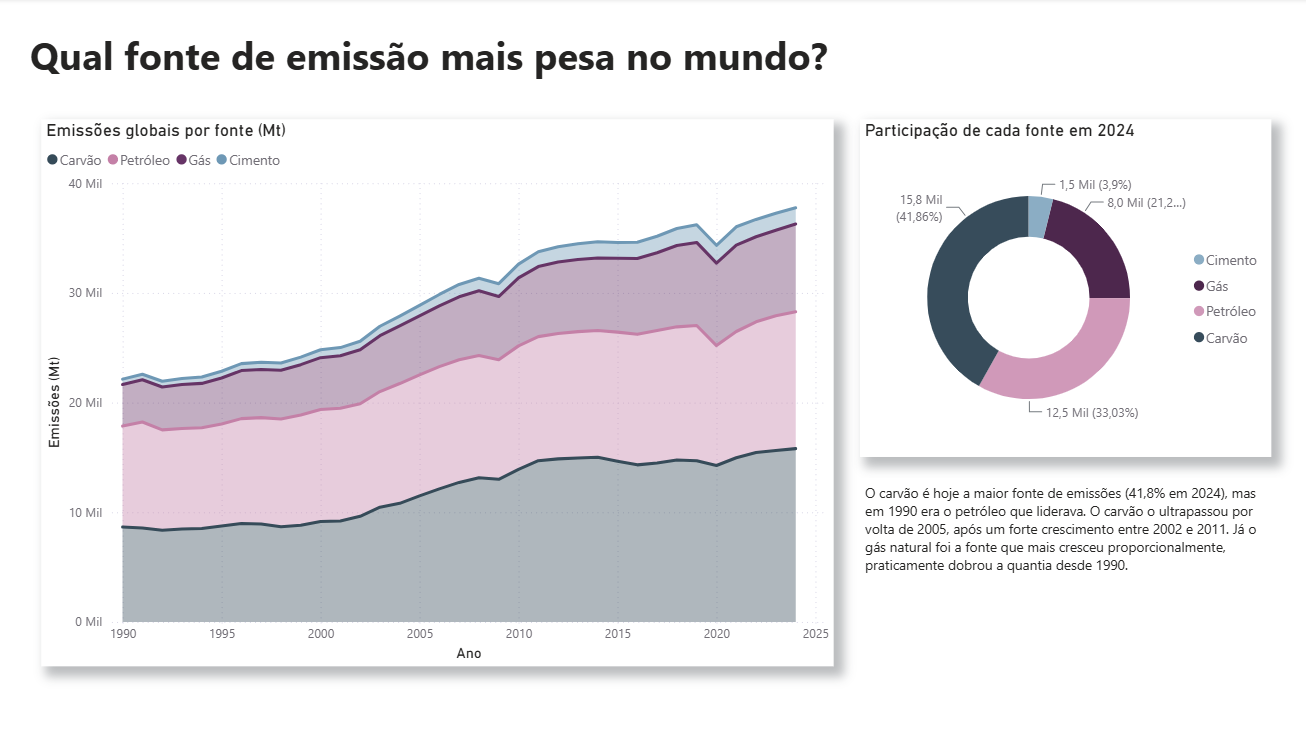

What the dashboard file says about the page in this screenshot:
{"tool":"powerbi","page":{"name":"Fontes","canvas":[1280,720],"ordinal":2},"visuals":[{"type":"textbox","box":[24.6,26.2,941.8,66.2],"z":0},{"type":"stackedAreaChart","title":"Emissões globais por fonte (Mt)","fields":{"Category":["dAno.year"],"Y":["Sum(Mundo.coal_co2)","Sum(Mundo.oil_co2)","Sum(Mundo.gas_co2)","Sum(Mundo.cement_co2)"]},"box":[40,118.5,775.6,535.5],"z":1000},{"type":"donutChart","title":"Participação de cada fonte em 2024","fields":{"Y":["Sum(Mundo.cement_co2)","Sum(Mundo.gas_co2)","Sum(Mundo.oil_co2)","Sum(Mundo.coal_co2)"]},"box":[841.3,118.6,412.1,327.7],"z":2000},{"type":"textbox","box":[841.1,467.3,412.2,98.6],"z":3000}]}

Visuals, with their boxes in screenshot pixels (x1, y1, x2, y2), scaled from the page's 1280x720 canvas onto the 1306x731 screenshot:
textbox: BBox(25, 27, 986, 94)
"Emissões globais por fonte (Mt)" stackedAreaChart: BBox(41, 120, 832, 664)
"Participação de cada fonte em 2024" donutChart: BBox(858, 120, 1279, 453)
textbox: BBox(858, 474, 1279, 575)
